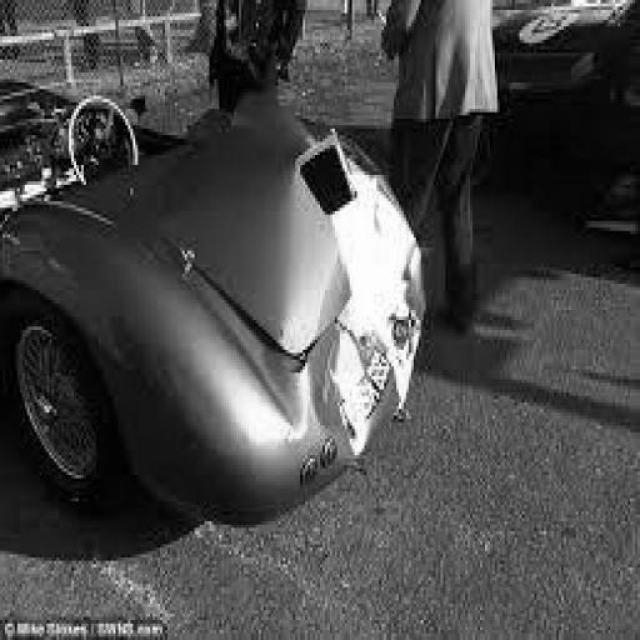crush: (226, 169, 429, 466)
